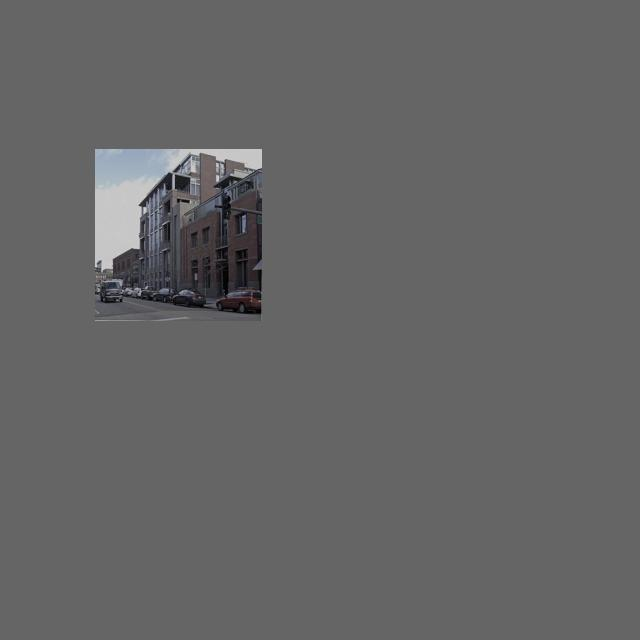car: (215, 288, 262, 313), (173, 287, 206, 307), (99, 280, 123, 302), (153, 287, 179, 303), (141, 284, 158, 301), (131, 286, 145, 298), (123, 285, 135, 297)
